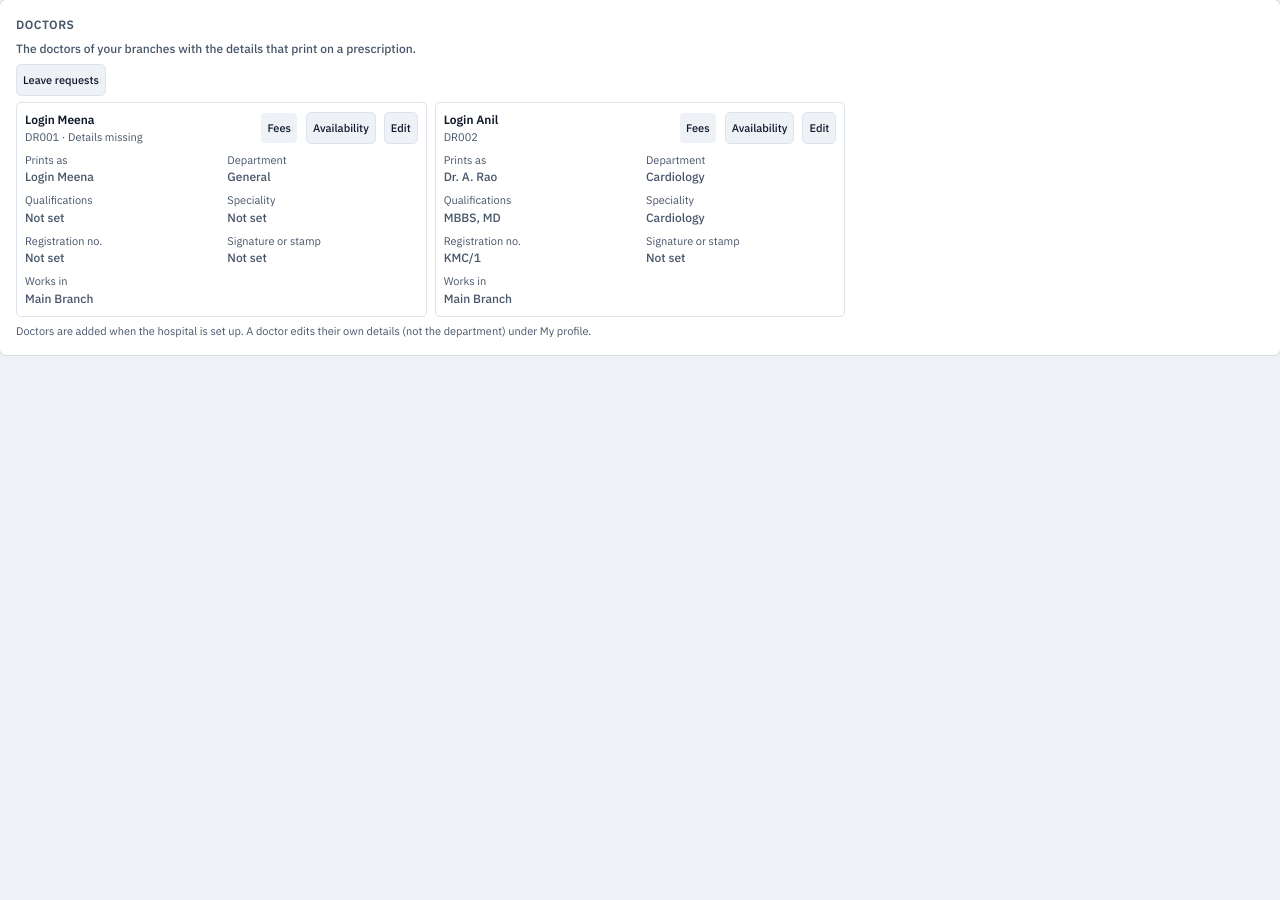
Test: DoctorsList › says so when a doctor is no longer in the Admin scope (404)
This screenshot has width=1280, height=900.
Click the button "Edit" in the row of "· Details missing" at {"x": 401, "y": 128}, box top-left (384, 112), bottom-right (418, 144)
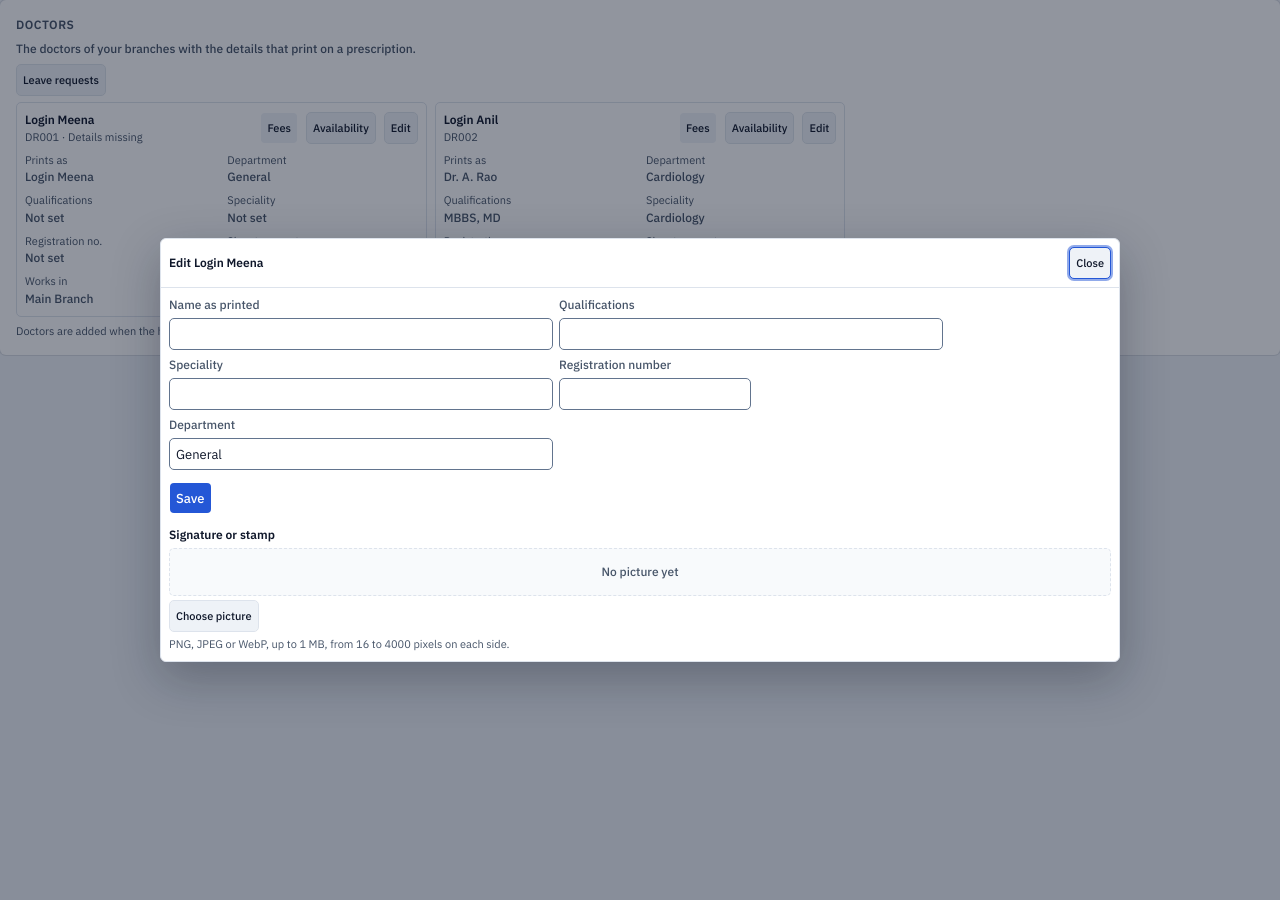
Click the button "Save" at {"x": 190, "y": 498}, box top-left (169, 482), bottom-right (212, 514)
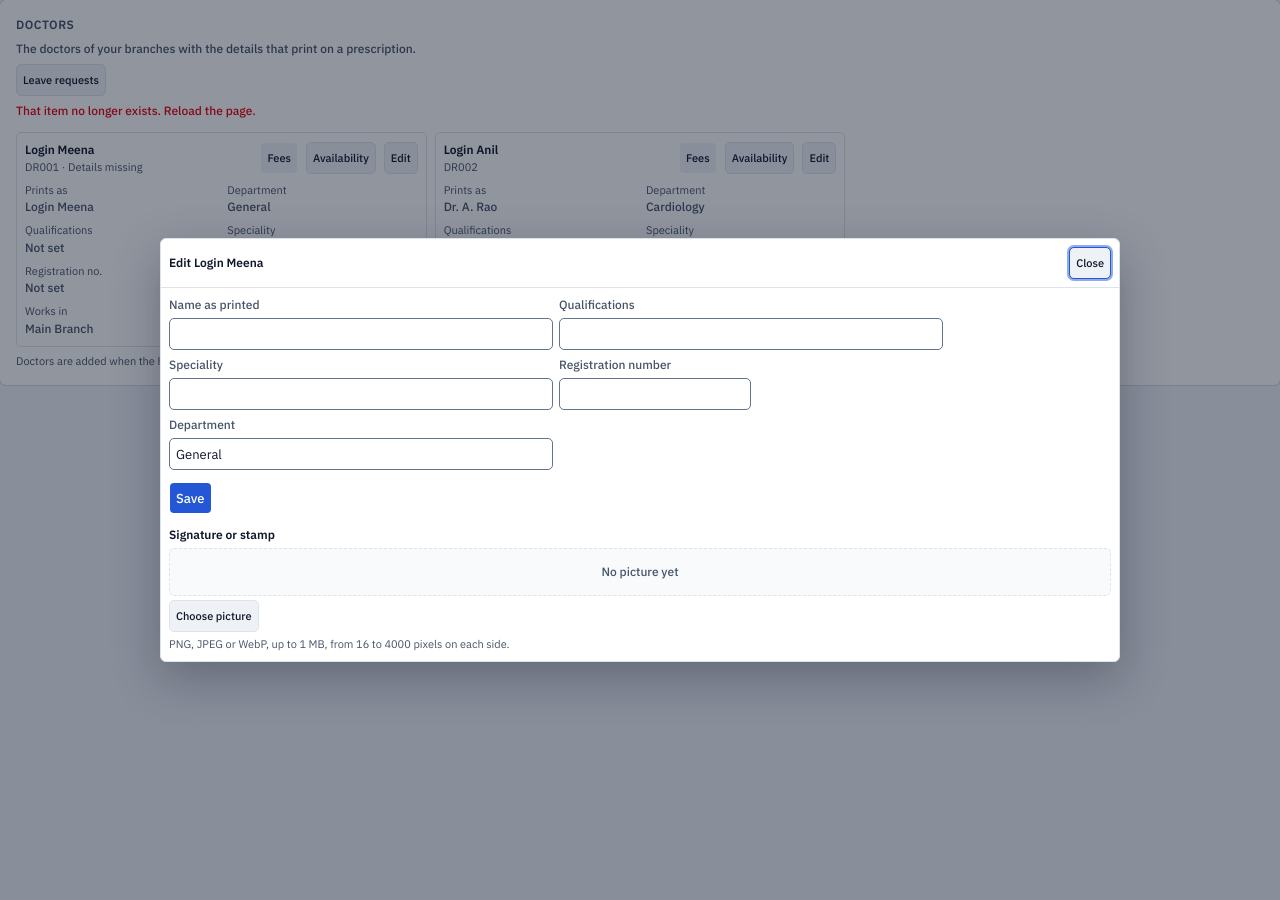
Now the message reads "That item no longer exists. Reload the page.", box top-left (16, 103), bottom-right (256, 118)
